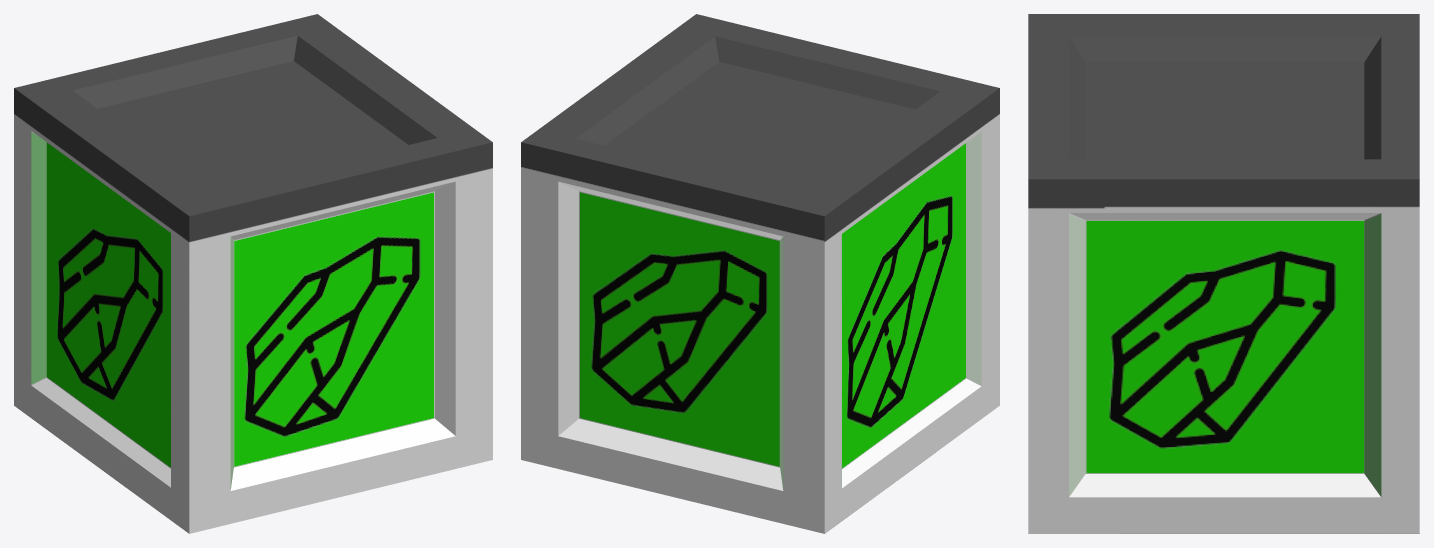
Rendered from Crate_Krypto.obj.
3 views of the same model, side by side, from view 1: azimuth 30°, elevation 25°; view 2: azimuth 150°, elevation 25°; view 3: azimuth 270°, elevation 25° (orthographic). The views are drawn at different scales.
Parts seen in each view (by area): view 1: Crate:pCube2 Crate:polySurface2 Base_Crate; view 2: Crate:pCube2 Crate:polySurface2 Base_Crate; view 3: Crate:pCube2 Crate:polySurface2 Base_Crate.
Boxes of the visible parts, x1,y1,x2,y2 form: Crate:pCube2 Crate:polySurface2 Base_Crate: [14, 14, 492, 533]; Crate:pCube2 Crate:polySurface2 Base_Crate: [521, 14, 999, 533]; Crate:pCube2 Crate:polySurface2 Base_Crate: [1028, 14, 1419, 533].
Bounding box in the file's own units: 1 × 1 × 1.
